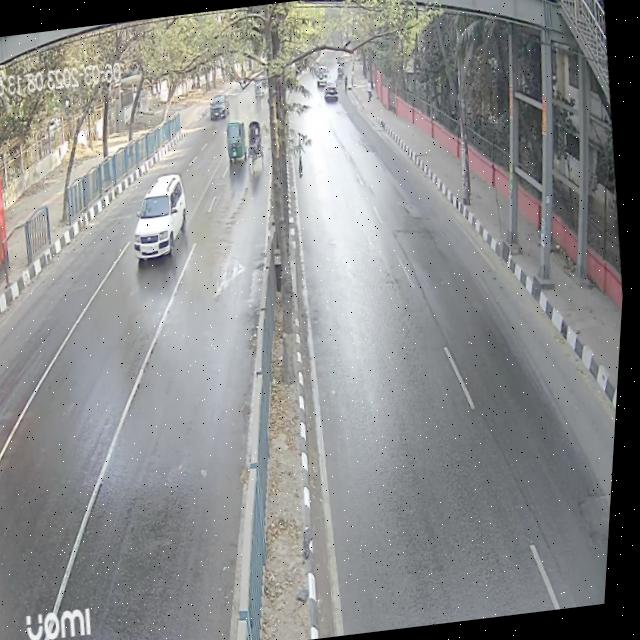cng: (223, 115, 251, 167)
rikshaw: (242, 116, 271, 180)
